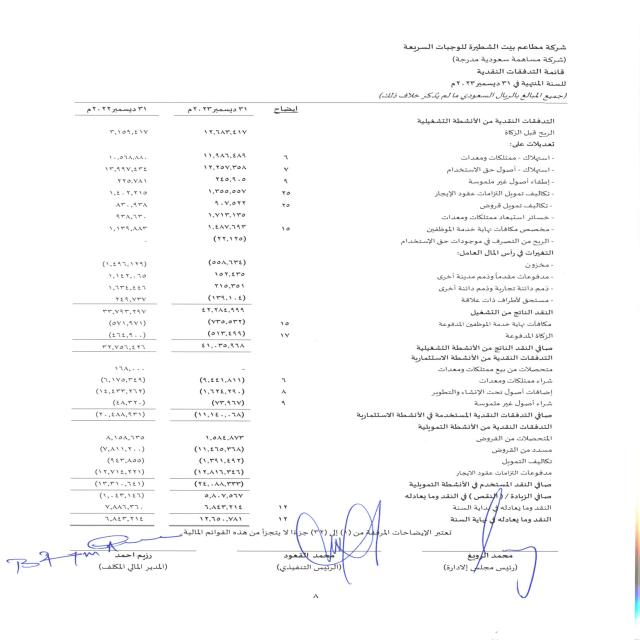financial_sheets: (461, 66, 591, 79)
table: (45, 98, 310, 530)
